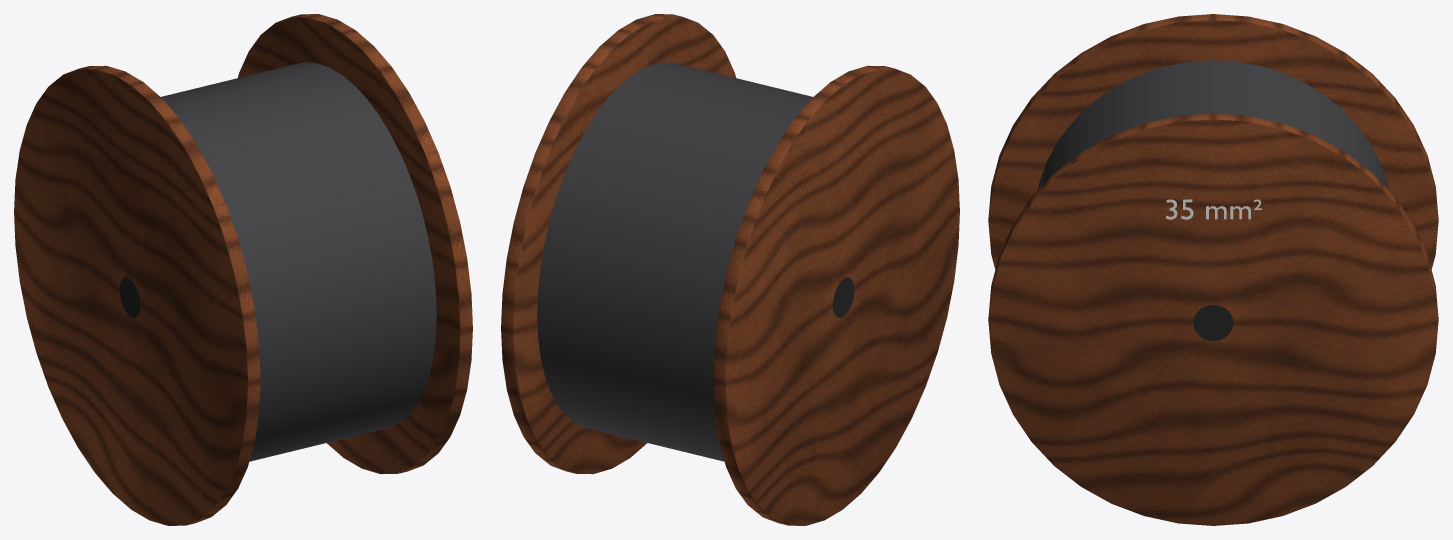
File: ELE-FIO-007.glb
3 renders of one model, left to right at view 1: azimuth 30°, elevation 25°; view 2: azimuth 150°, elevation 25°; view 3: azimuth 270°, elevation 25°, orthographic. The views are drawn at different scales.
Visible parts, largest first — view 1: ELE-FIO-007_flange-1, ELE-FIO-007_cabo, ELE-FIO-007_flange1, ELE-FIO-007_furo-1; view 2: ELE-FIO-007_flange-1, ELE-FIO-007_cabo, ELE-FIO-007_flange1, ELE-FIO-007_furo-1; view 3: ELE-FIO-007_flange1, ELE-FIO-007_flange-1, ELE-FIO-007_cabo, ELE-FIO-007_furo1, ELE-FIO-007_texto.
Boxes of the visible parts, left/top/right/bottom form: ELE-FIO-007_flange-1: left=14, top=65, right=260, bottom=525; ELE-FIO-007_cabo: left=161, top=62, right=436, bottom=461; ELE-FIO-007_flange1: left=238, top=14, right=472, bottom=474; ELE-FIO-007_furo-1: left=119, top=277, right=140, bottom=317; ELE-FIO-007_flange-1: left=713, top=65, right=959, bottom=525; ELE-FIO-007_cabo: left=537, top=62, right=812, bottom=461; ELE-FIO-007_flange1: left=501, top=14, right=735, bottom=474; ELE-FIO-007_furo-1: left=833, top=277, right=854, bottom=317; ELE-FIO-007_flange1: left=988, top=113, right=1438, bottom=525; ELE-FIO-007_flange-1: left=988, top=14, right=1438, bottom=269; ELE-FIO-007_cabo: left=1037, top=60, right=1389, bottom=190; ELE-FIO-007_furo1: left=1193, top=304, right=1233, bottom=340; ELE-FIO-007_texto: left=1166, top=199, right=1261, bottom=219.
Size of the model in its own units: 0.502 by 0.9 by 0.9.
Materials: 4 (1 with a texture image).
